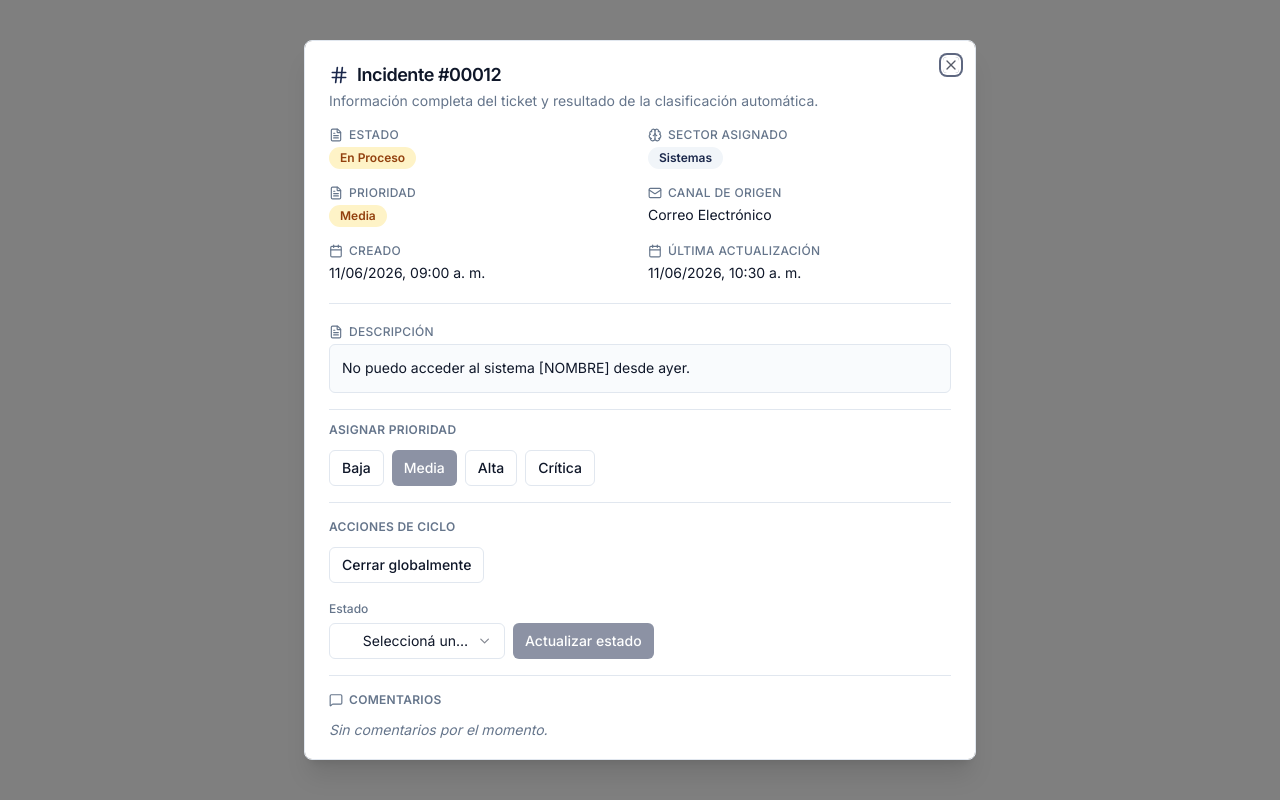
TicketDetailDialog - asignacion de prioridad (c-90) › un 403 del backend se maneja como acceso denegado sin asumir exito
The image size is (1280, 800).
Click the button "Crítica" at (560, 468), box [525,450,595,486]
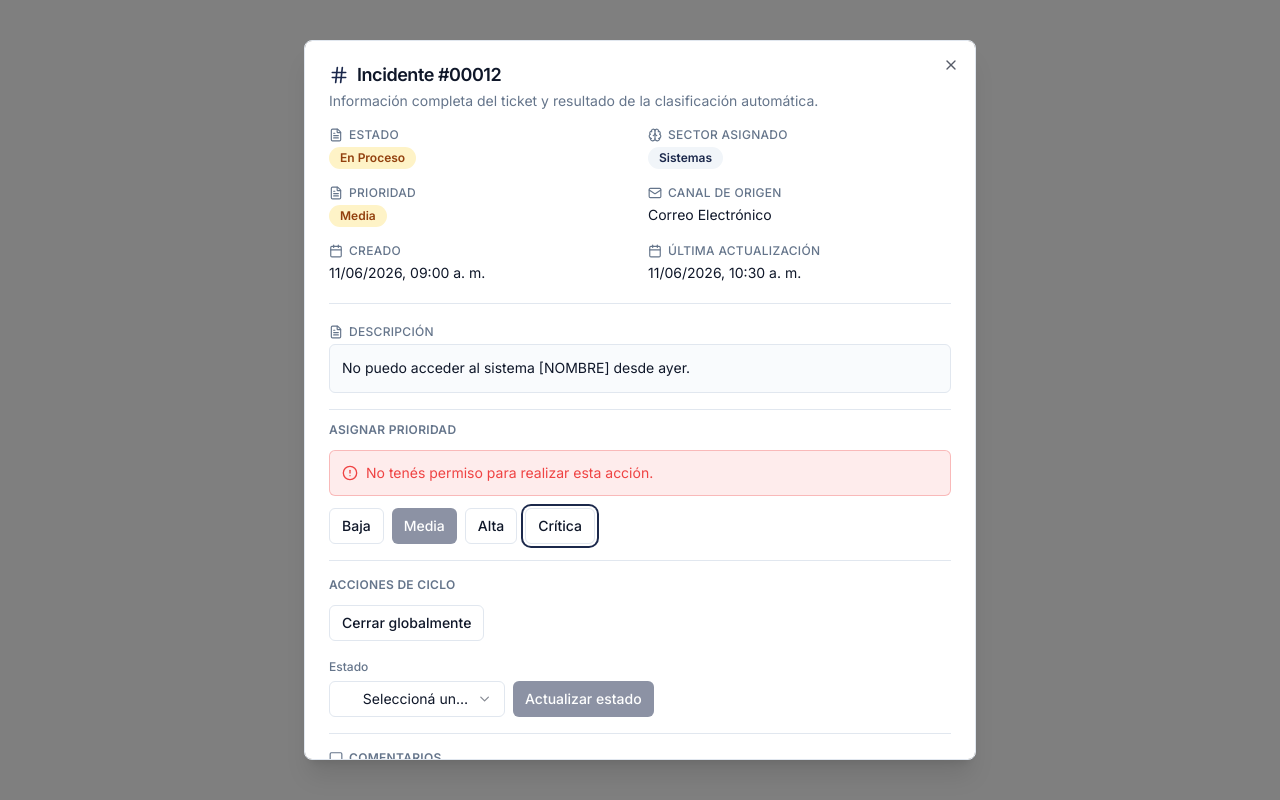
Result: the text "No tenés permiso para realizar esta acción." is shown at [366,463,653,483]
